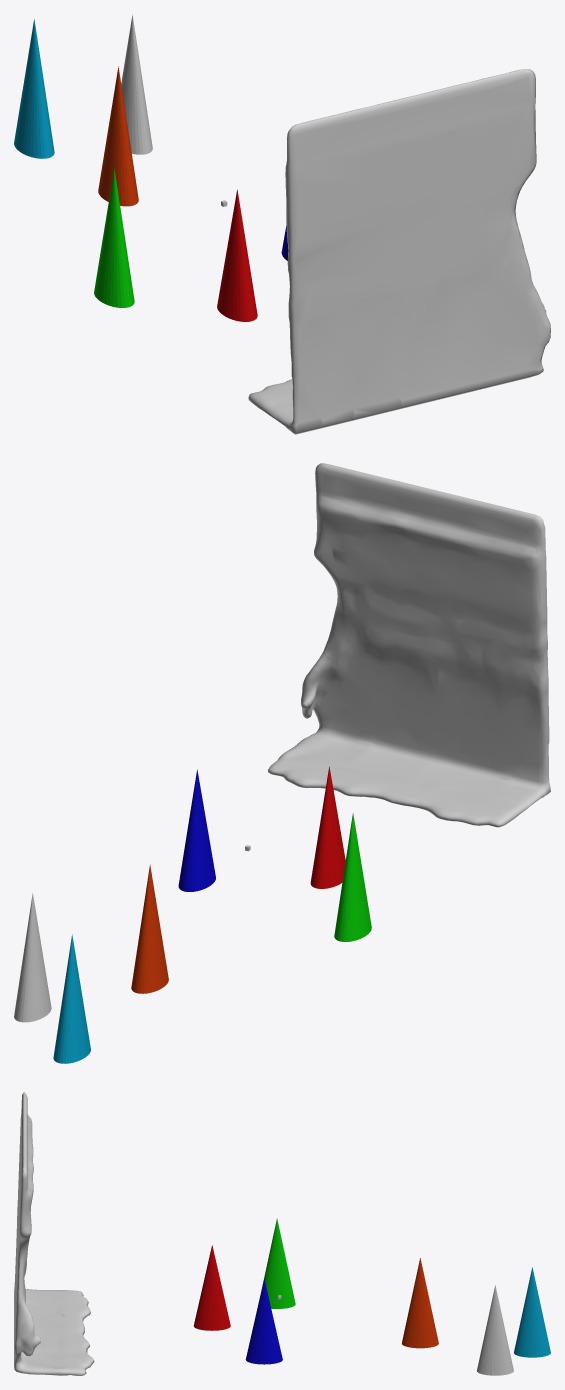
The picture shows the model from 3 angles, top to bottom: view 1: azimuth 30°, elevation 25°; view 2: azimuth 150°, elevation 25°; view 3: azimuth 270°, elevation 25°; orthographic projection. The views are drawn at different scales.
Visible parts, largest first — view 1: Liquid_Domain, 円錐.005, 円錐.003, 円錐.001, 円錐.004, 円錐; view 2: Liquid_Domain, 円錐.005, 円錐.004, 円錐, 円錐.003, 円錐.002, 円錐.001; view 3: Liquid_Domain, 円錐.005, 円錐, 円錐.004, 円錐.002, 円錐.001, 円錐.003.
Boxes of the visible parts, bbox=[...] form: Liquid_Domain: bbox=[248, 69, 550, 434]; 円錐.005: bbox=[14, 19, 54, 158]; 円錐.003: bbox=[94, 168, 134, 307]; 円錐.001: bbox=[217, 189, 257, 321]; 円錐.004: bbox=[98, 66, 138, 206]; 円錐: bbox=[121, 15, 152, 154]; Liquid_Domain: bbox=[267, 463, 550, 827]; 円錐.005: bbox=[53, 934, 90, 1063]; 円錐.004: bbox=[131, 864, 168, 993]; 円錐: bbox=[14, 893, 51, 1022]; 円錐.003: bbox=[334, 813, 371, 941]; 円錐.002: bbox=[178, 769, 215, 891]; 円錐.001: bbox=[310, 766, 345, 888]; Liquid_Domain: bbox=[14, 1092, 94, 1375]; 円錐.005: bbox=[514, 1267, 550, 1357]; 円錐: bbox=[477, 1285, 513, 1375]; 円錐.004: bbox=[402, 1258, 438, 1348]; 円錐.002: bbox=[245, 1279, 282, 1364]; 円錐.001: bbox=[193, 1245, 230, 1330]; 円錐.003: bbox=[262, 1218, 295, 1308].
Size of the model in its own units: 129 by 158 by 347.
